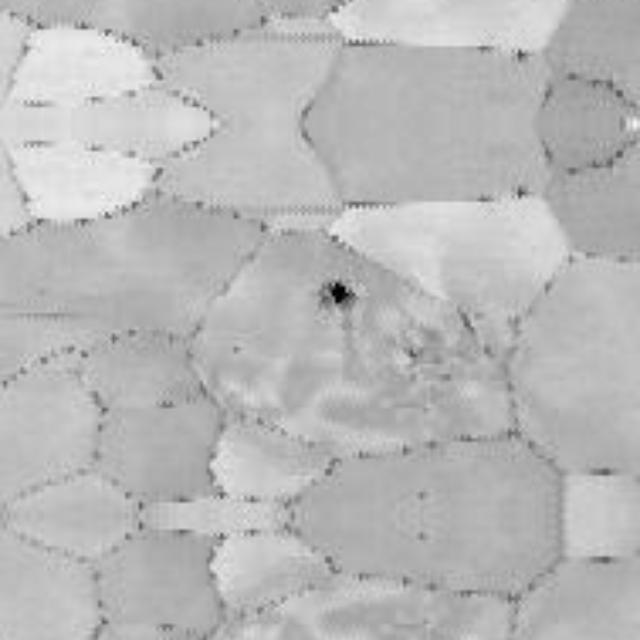good_void: (316, 281, 356, 314)
